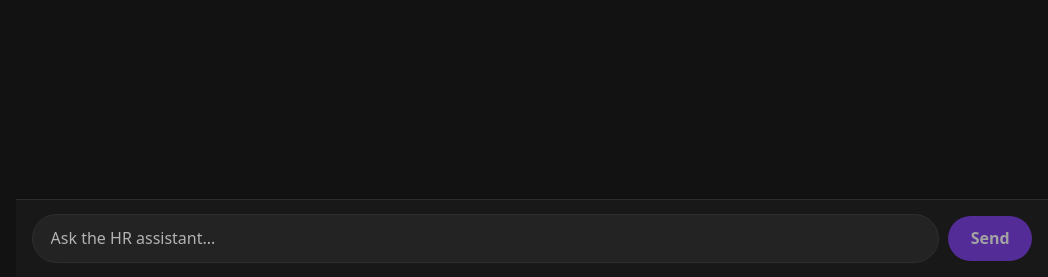
Scenario: ChatDock › starts a new session and clears the history on "New conversation"
Type "one" into the field with test id "chat-input" at (485, 238), box [32,214,939,263]
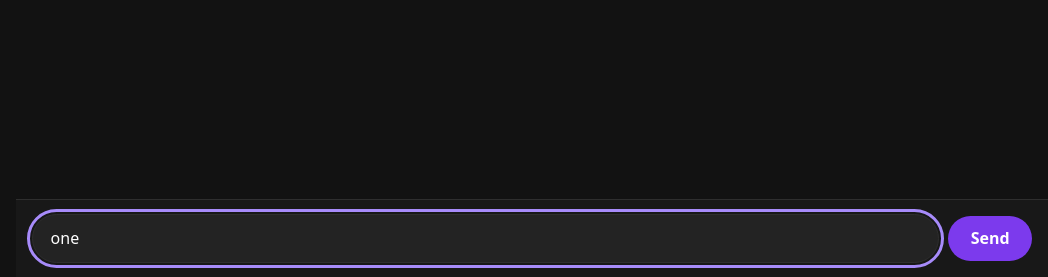
Click the button with test id "chat-send" at (990, 238), box [948,216,1032,261]
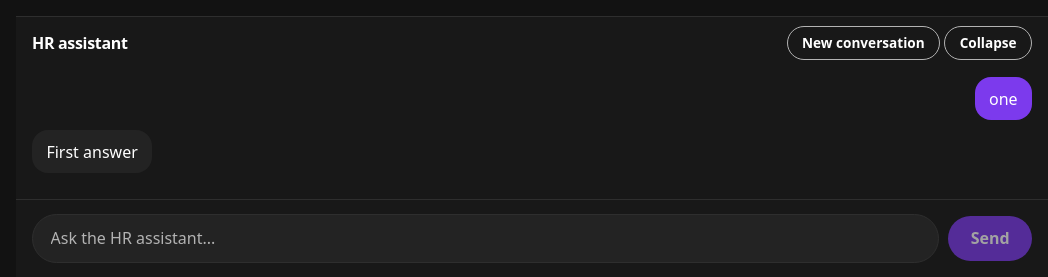
Result: the text "First answer" is shown at [32,130,152,173]
Click the button with test id "chat-new" at (863, 43), box [787,26,940,60]
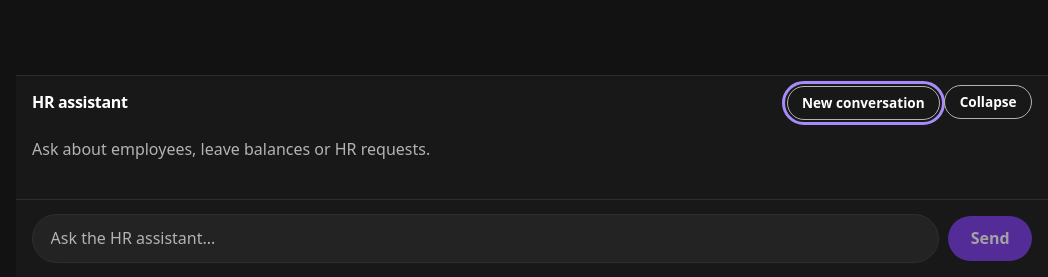
Result: the text "First answer" is gone
Type "two" into the field with test id "chat-input" at (485, 238), box [32,214,939,263]
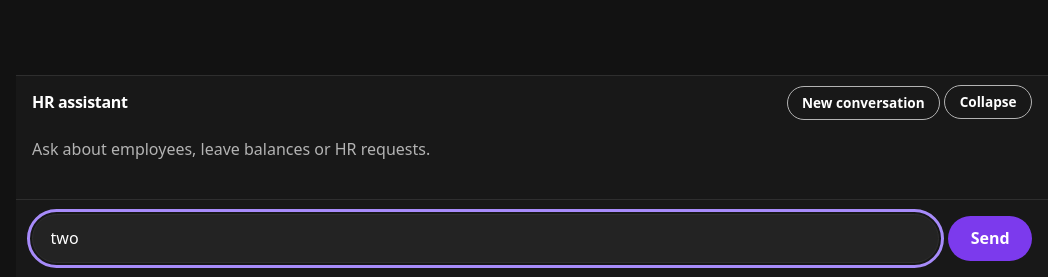
Click the button with test id "chat-send" at (990, 238), box [948,216,1032,261]
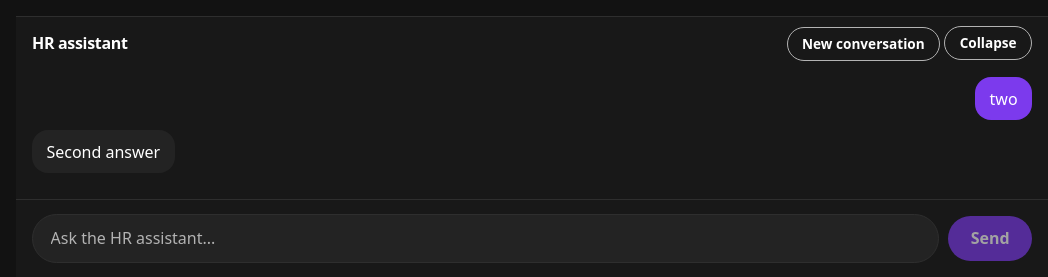
Result: the text "Second answer" is shown at [32,130,175,173]
